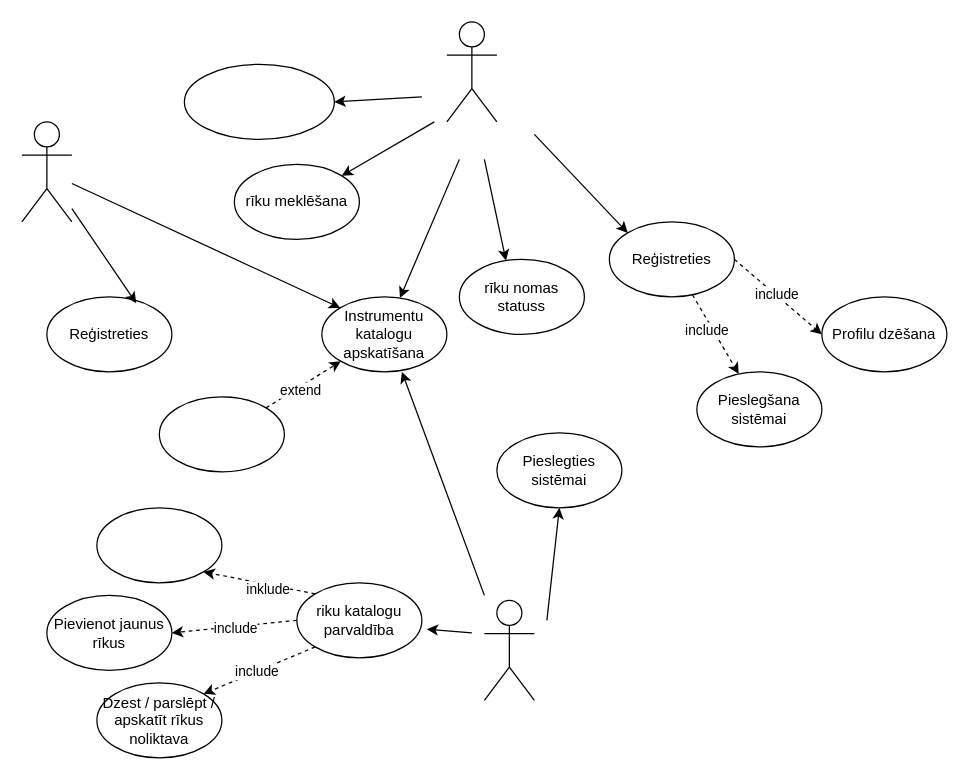
Image size: 969x780. Some labels were removed from this diagram. Each missing label, with the centre of its shape:
"Admin" belongs at [508,649].
"filtrēšana" belongs at [221,434].
"Lietotājs" belongs at [471,71].
"Rediģēt rīkus informāciju" belongs at [159,545].
"savu pasūtījuma vēsturi apskatīšana" belongs at [258,101].
"Viesis" belongs at [46,171].
